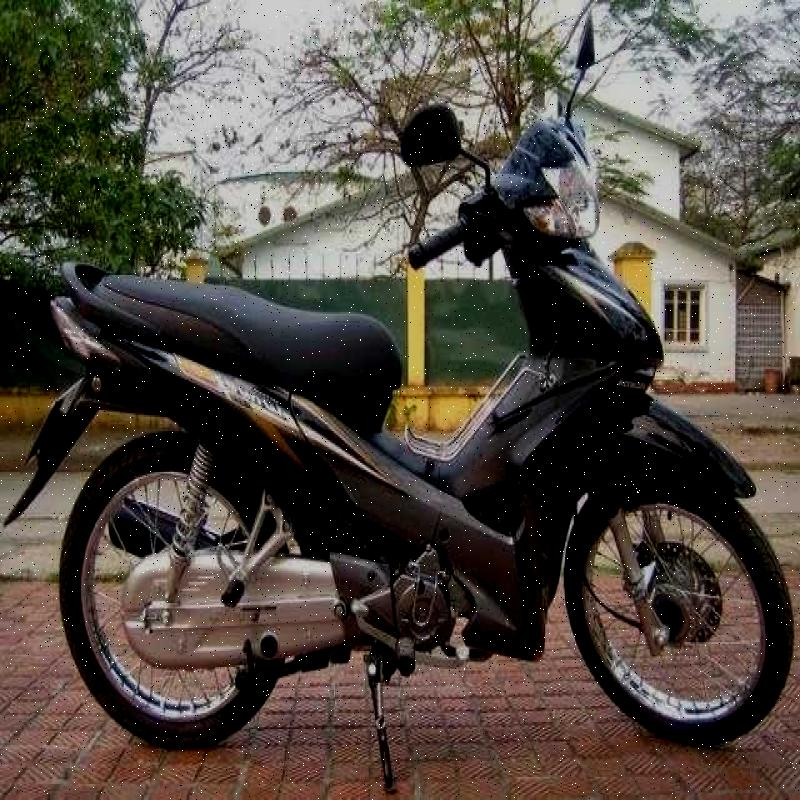bike: (0, 5, 786, 766)
